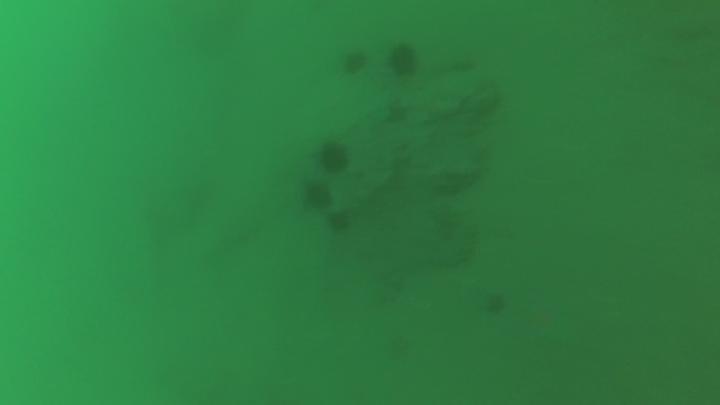echinus: (385, 40, 422, 81), (315, 138, 353, 177), (300, 178, 336, 213), (339, 47, 370, 77), (480, 289, 510, 318), (324, 208, 355, 236)
starfish: (381, 99, 412, 128)
